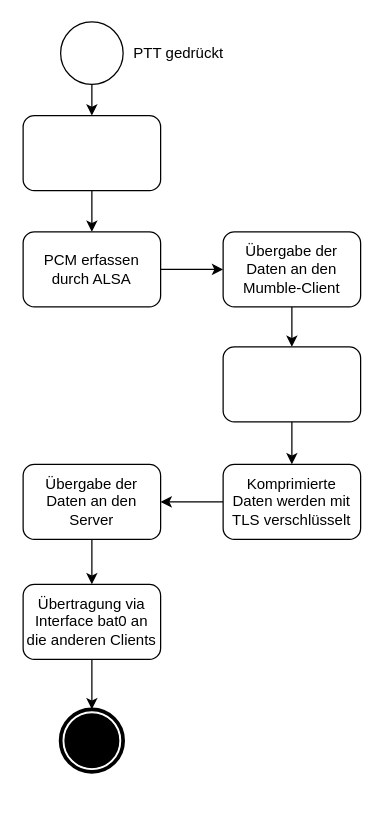
Image size: 383x839. Some labels were removed from this diagram. The shapes that lost their labels are listed below. From the top down, each one's centre as x and y in pixels, then its label:
point (91, 152): ptt.service setzt Mikrofon auf ON
point (291, 384): Client komprimiert Daten mit Opus-Codec
point (91, 740): Empfang der Spache auf den Clients
